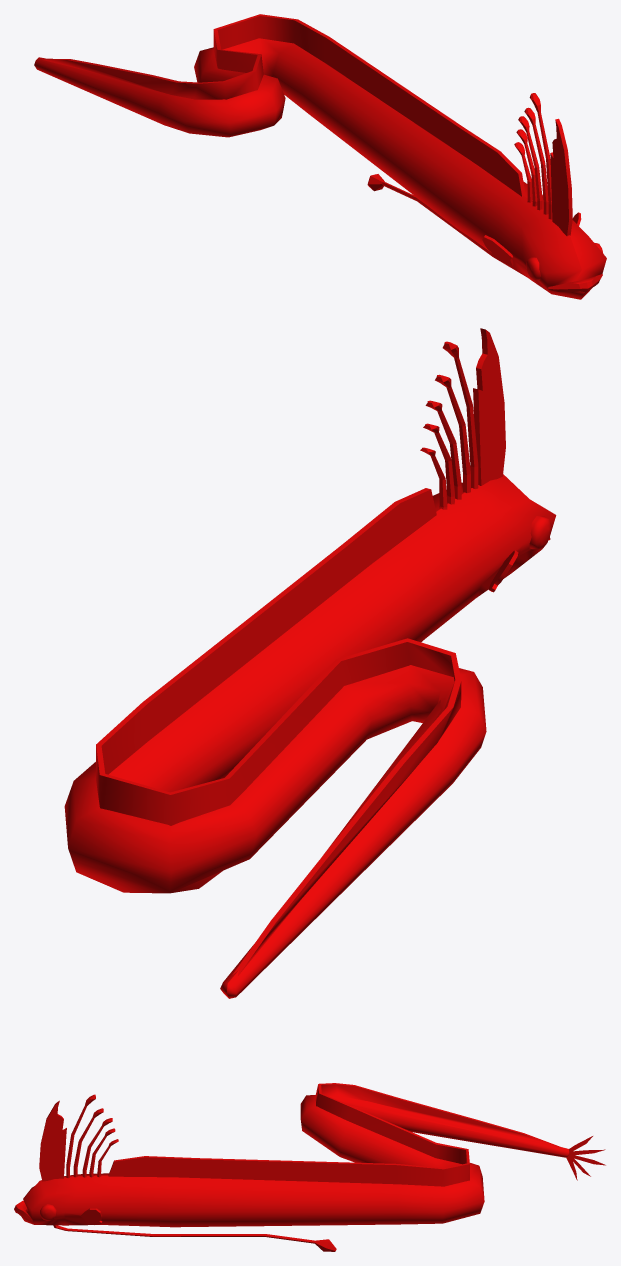
3 views of the same model, one above another, from view 1: azimuth 30°, elevation 25°; view 2: azimuth 150°, elevation 25°; view 3: azimuth 270°, elevation 25° (orthographic). The views are drawn at different scales.
Parts seen in each view (by area): view 1: Fish_OarFish; view 2: Fish_OarFish; view 3: Fish_OarFish.
Boxes of the visible parts, bbox=[...] form: Fish_OarFish: bbox=[34, 14, 606, 299]; Fish_OarFish: bbox=[64, 328, 556, 998]; Fish_OarFish: bbox=[14, 1083, 605, 1251].
Bounding box in the file's own units: 0.6448 × 0.5476 × 1.88.
